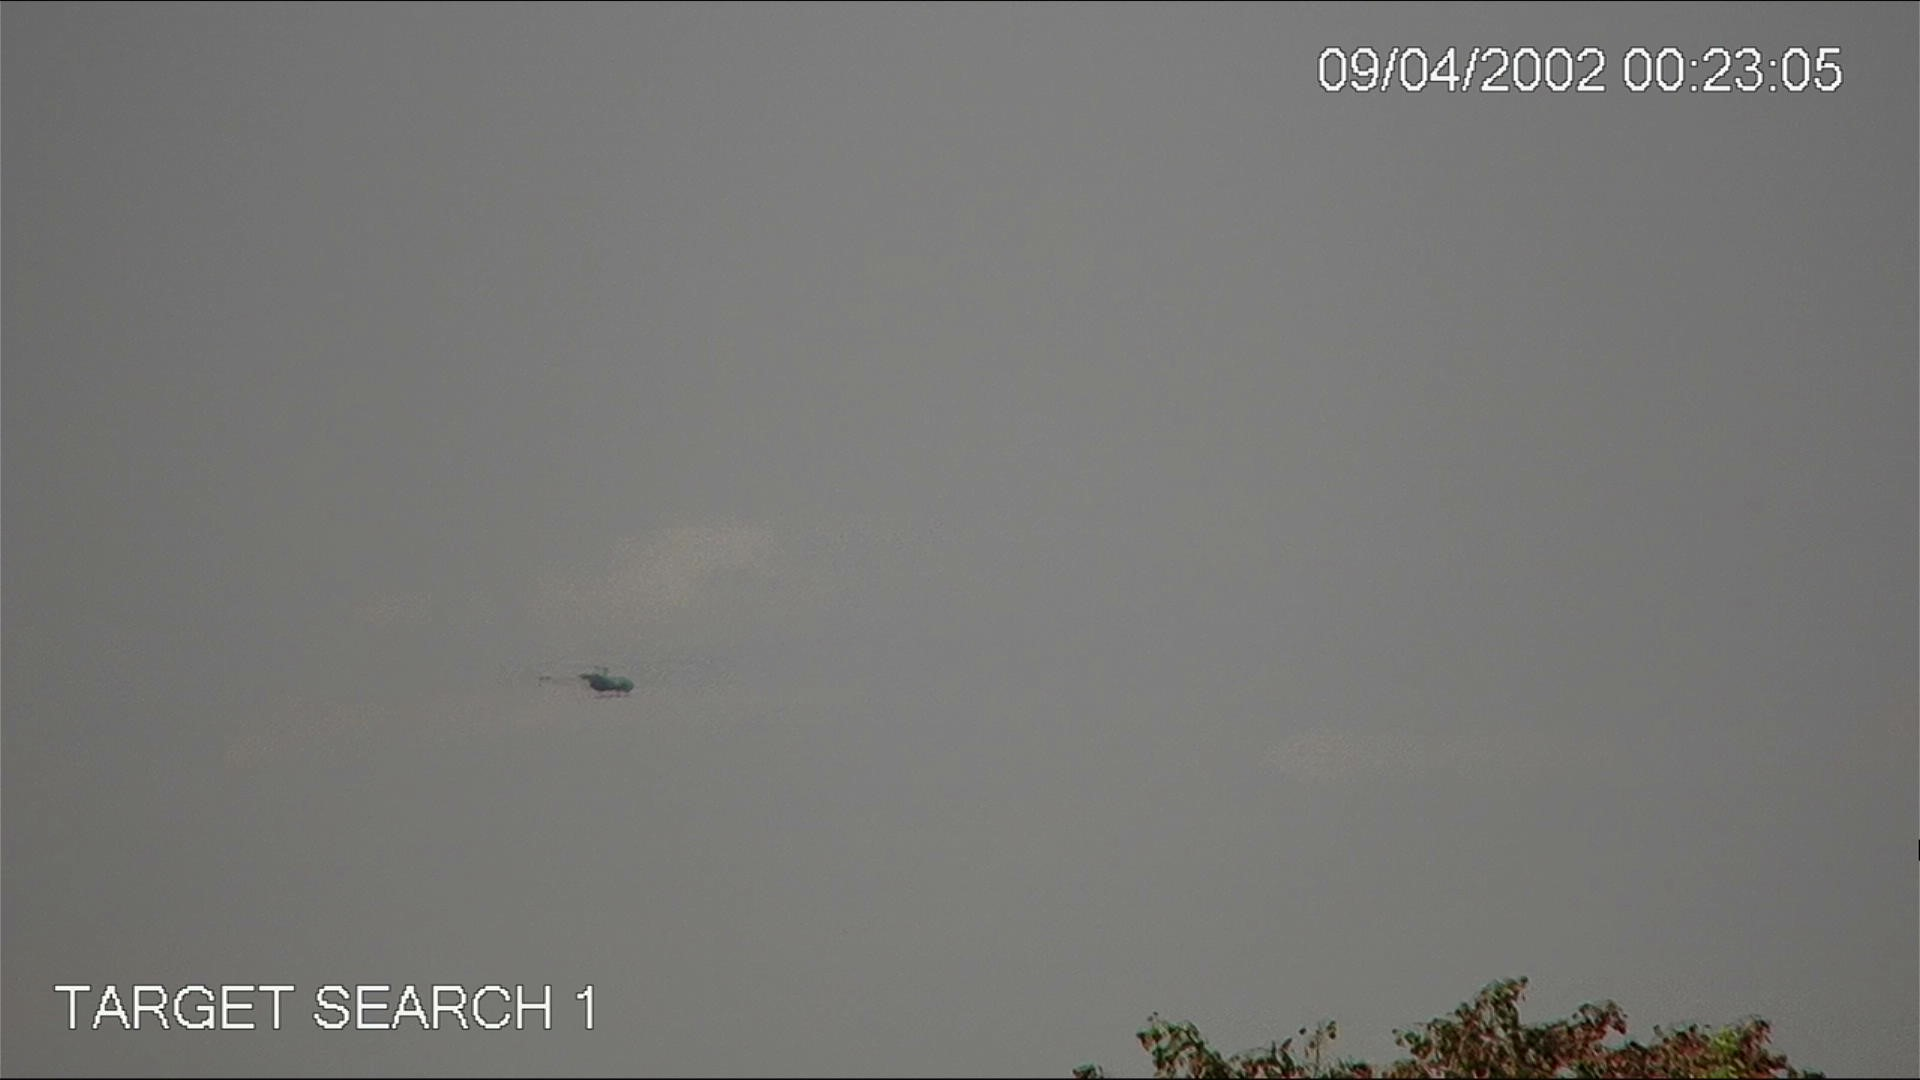SU_30: (534, 655, 636, 705)
